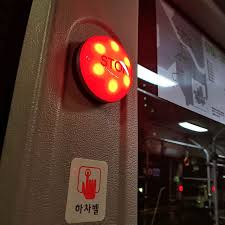bell: (74, 30, 139, 108)
